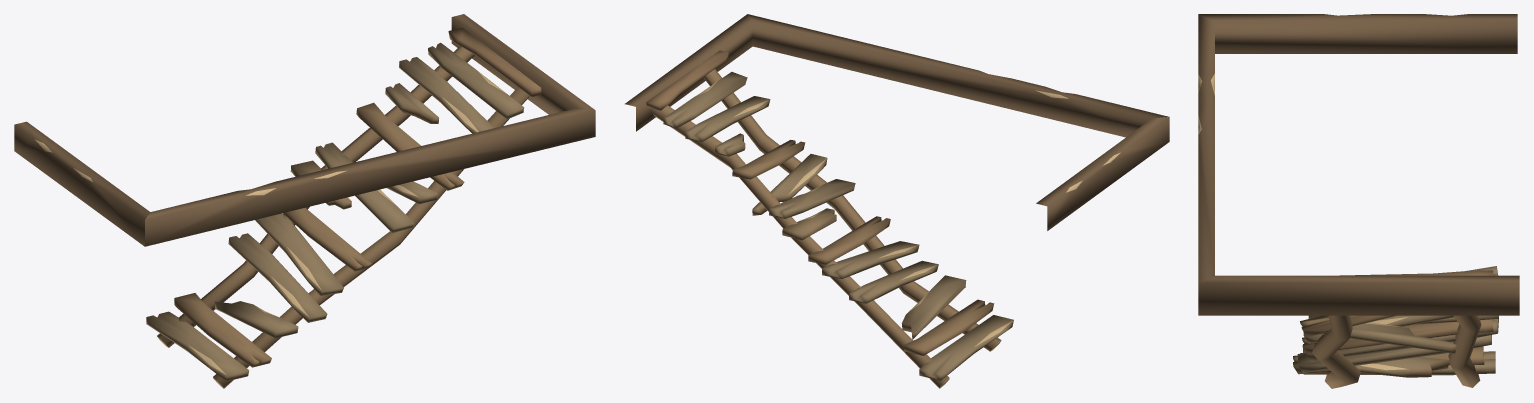
The model's file is rpgpp_av_stairs_interior_01a_3m.gltf.
3 renders of one model, left to right at view 1: azimuth 30°, elevation 25°; view 2: azimuth 150°, elevation 25°; view 3: azimuth 270°, elevation 25°, orthographic. The views are drawn at different scales.
Parts seen in each view (by area): view 1: rpgpp_av_stairs_interior_01a_3m; view 2: rpgpp_av_stairs_interior_01a_3m; view 3: rpgpp_av_stairs_interior_01a_3m.
Boxes of the visible parts, x1,y1,x2,y2 form: rpgpp_av_stairs_interior_01a_3m: [14, 14, 595, 388]; rpgpp_av_stairs_interior_01a_3m: [625, 14, 1169, 388]; rpgpp_av_stairs_interior_01a_3m: [1198, 14, 1519, 388].
Bounding box in the file's own units: 0.0622 × 0.0318 × 0.0314.
1 material, 1 textured.
